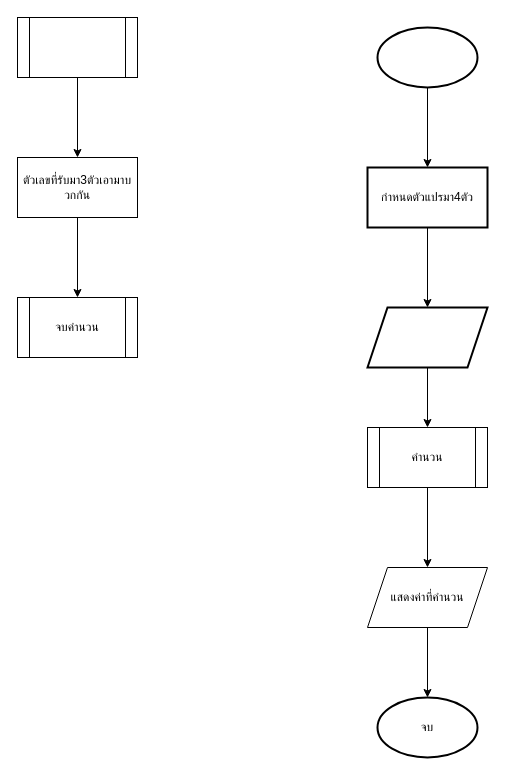
Some shapes in this 506 by 776 pixel diagram are drawn without their labels. The centre of each missing label's shape, as x and y in pixels:
รับค่าตัวที่1-3: the point at 427,337
เริ่ม: the point at 427,57
เริ่มคำนวน: the point at 77,47
